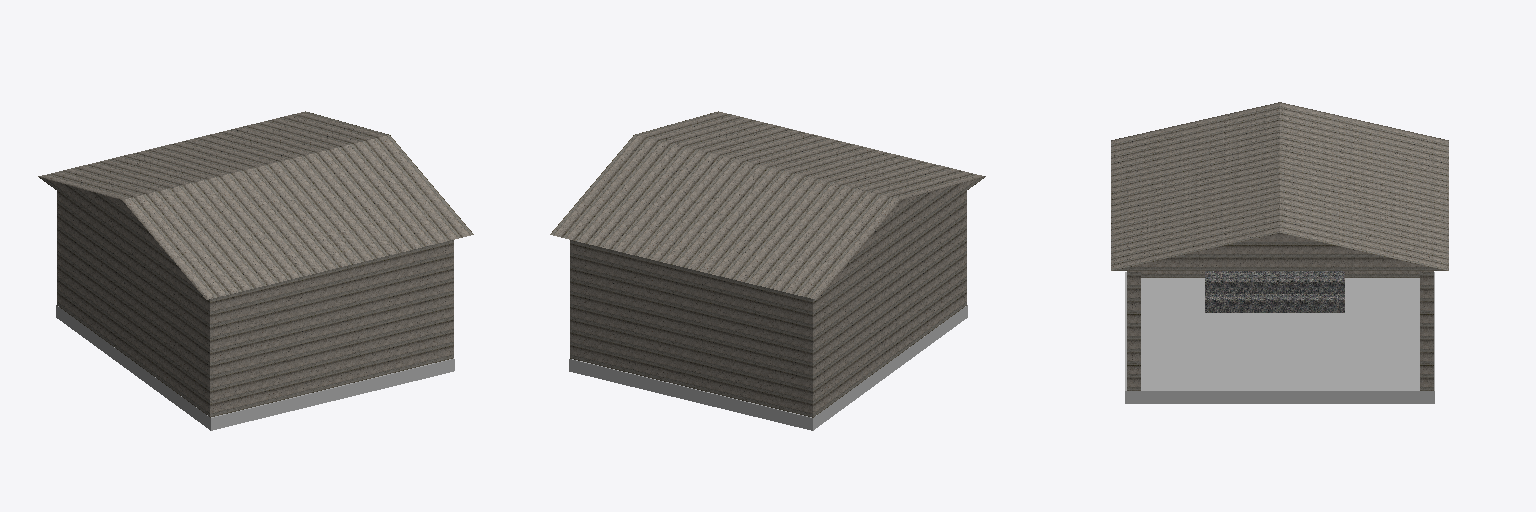
3 views of the same model, side by side, from view 1: azimuth 30°, elevation 25°; view 2: azimuth 150°, elevation 25°; view 3: azimuth 270°, elevation 25° (orthographic).
Visible parts, largest first — view 1: Cube; view 2: Cube; view 3: Cube.
Boxes of the visible parts, x1,y1,x2,y2 form: Cube: [38, 111, 473, 430]; Cube: [550, 111, 985, 430]; Cube: [1111, 102, 1448, 403].
Size of the model in its own units: 22 by 13.89 by 24.
Materials: 4 (3 with a texture image).